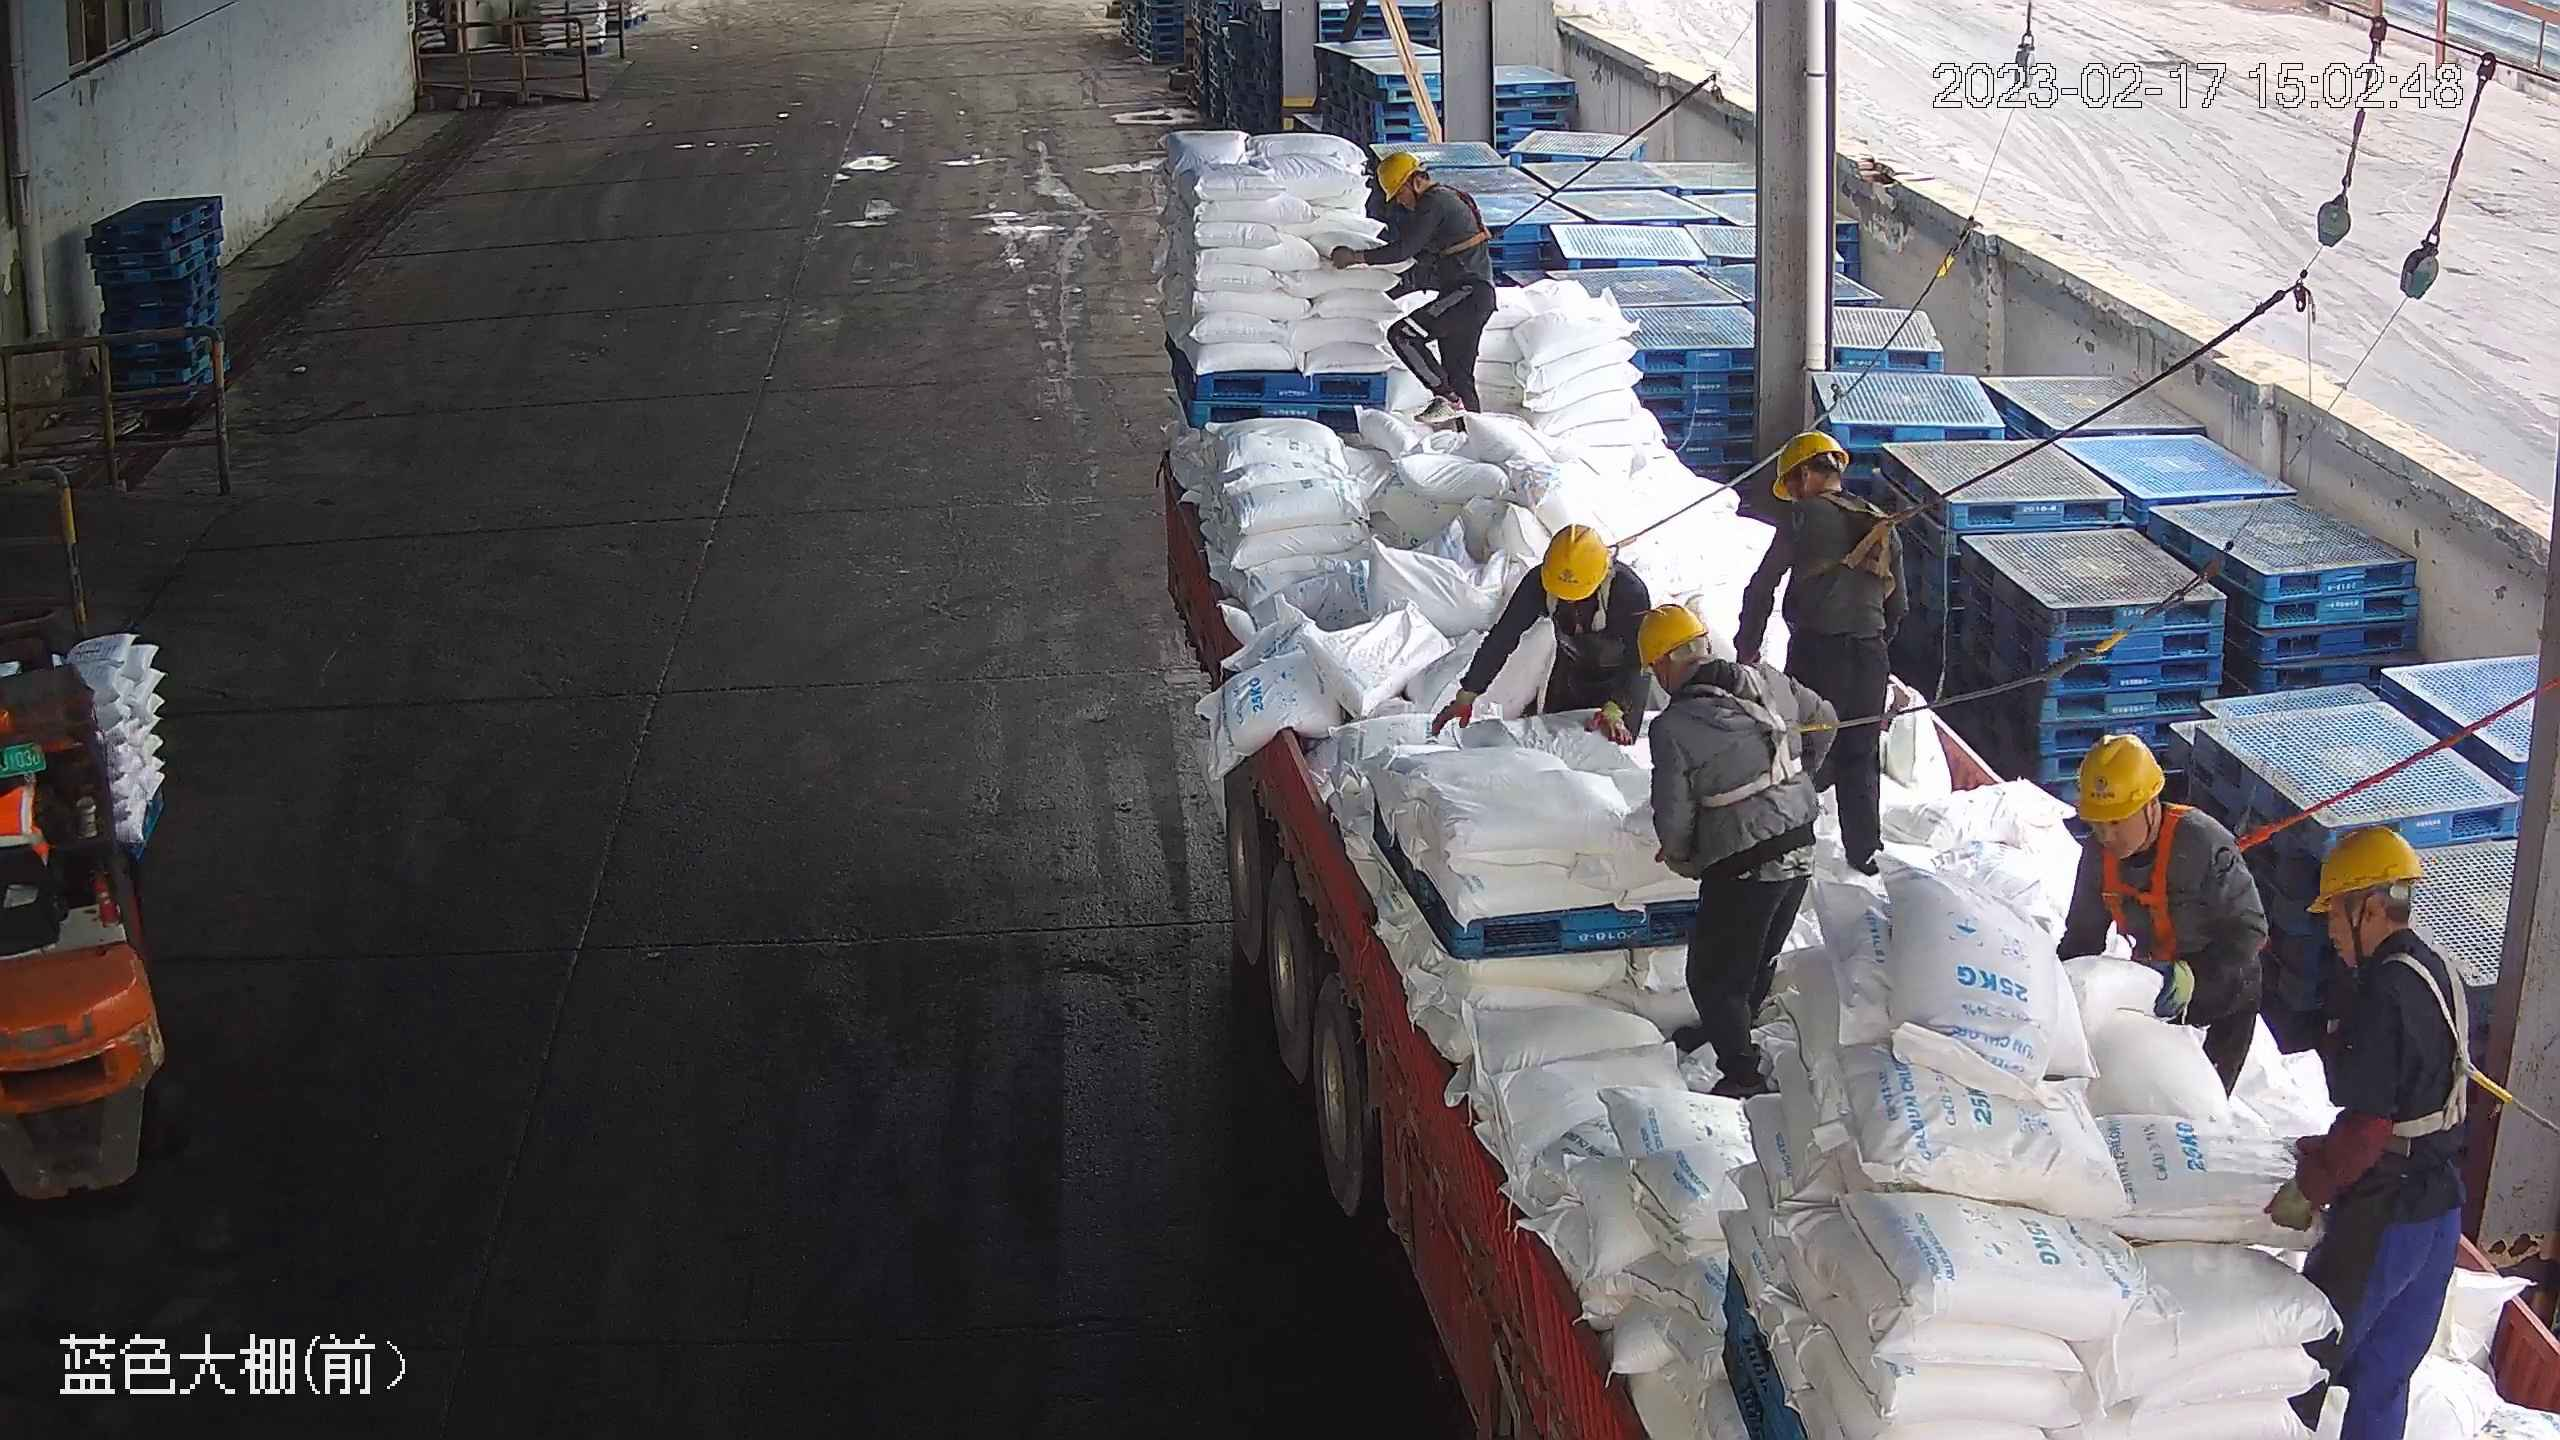belt: (2328, 940, 2513, 1153), (2098, 806, 2242, 963), (1686, 669, 1827, 812), (1797, 484, 1911, 590), (1427, 179, 1496, 255)
head: (2302, 822, 2475, 1042), (2066, 730, 2240, 880), (1630, 603, 1798, 737), (1765, 426, 1903, 552), (1516, 518, 1650, 624), (1377, 149, 1476, 229)
helmet: (2304, 822, 2430, 914), (2070, 730, 2166, 821), (1536, 525, 1607, 612), (1768, 427, 1848, 502), (1633, 602, 1712, 674), (1378, 149, 1423, 201)
people: (2260, 821, 2489, 1440), (1636, 602, 1825, 1105), (1732, 427, 1914, 881), (2053, 727, 2272, 1105), (1431, 522, 1661, 747), (1327, 148, 1501, 437)
truck: (1129, 160, 2543, 1435)
